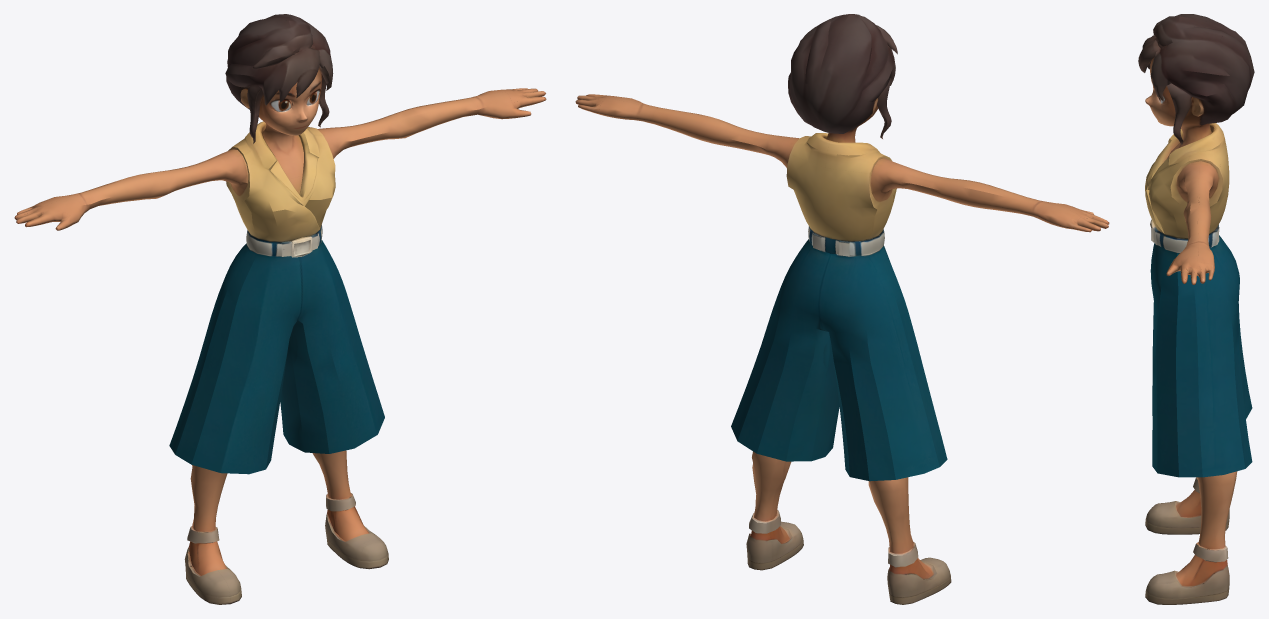
File: female_epic.obj
3 views of the same model, side by side, from view 1: azimuth 30°, elevation 25°; view 2: azimuth 150°, elevation 25°; view 3: azimuth 270°, elevation 25° (orthographic).
Visible parts, largest first — view 1: model; view 2: model; view 3: model.
Boxes of the visible parts, x1,y1,x2,y2 form: model: [14, 14, 546, 604]; model: [575, 14, 1109, 604]; model: [1138, 14, 1254, 604].
Size of the model in its own units: 1.71 by 1.71 by 0.3293.
1 material, 1 textured.
